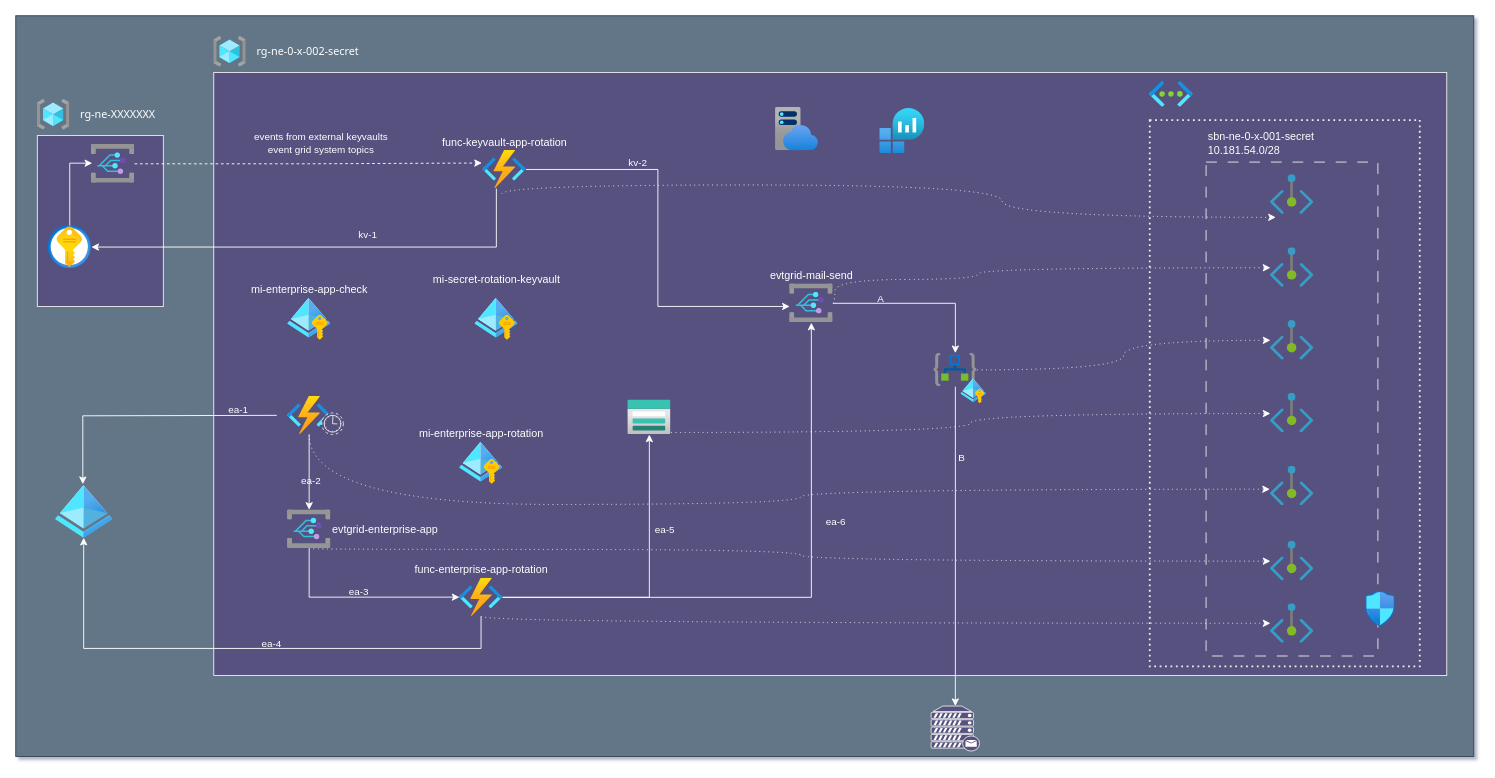
This 1495x778 diagram has some shape labels left out. Here are the shapes that lost their labels. From the top down, the box of each, then its label:
(1149, 81, 1192, 107): vnet-ne-0-x-001-secret 10.181.54.0/26
(775, 107, 818, 150): asp-secret-rotation
(933, 353, 976, 386): logicapp-mail-send
(287, 396, 330, 434): func-enterprise-app-check
(627, 400, 670, 434): stclientsecrets
